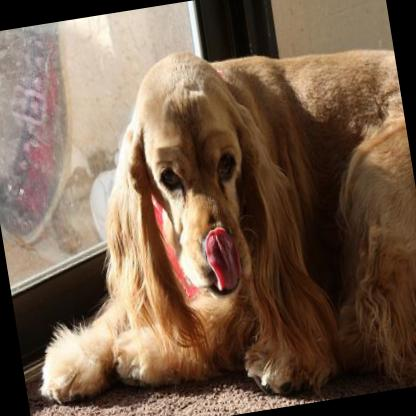cocker_spaniel: (0, 18, 416, 416)
